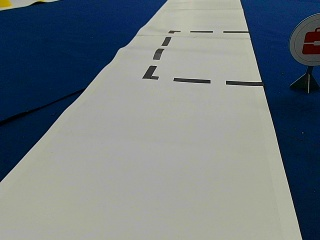company: (289, 12, 320, 64)
